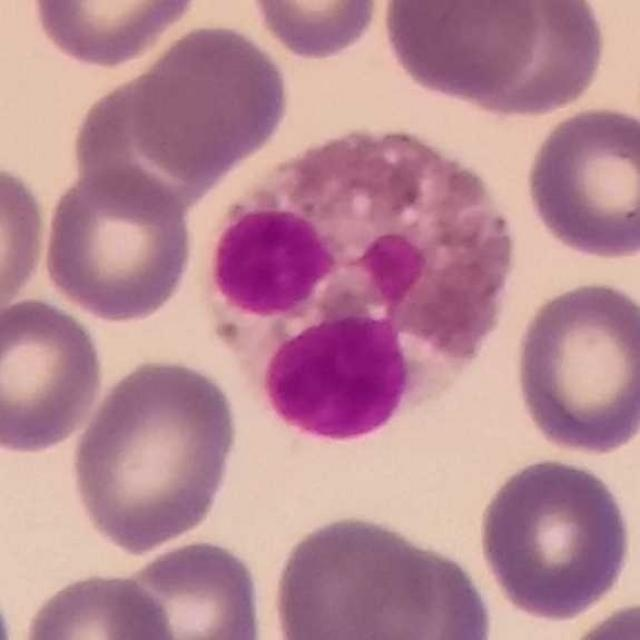Eosinophil: (196, 110, 537, 445)
RBC: (65, 353, 244, 555), (475, 453, 636, 623), (129, 20, 293, 180), (39, 164, 198, 325), (508, 275, 640, 457), (72, 81, 239, 222), (267, 508, 444, 640), (438, 1, 608, 121), (521, 101, 640, 264), (378, 0, 544, 106), (0, 294, 108, 456), (336, 535, 500, 640), (107, 535, 269, 640), (26, 0, 204, 70), (16, 567, 177, 640), (243, 0, 388, 63), (0, 155, 50, 328), (555, 596, 639, 640)
